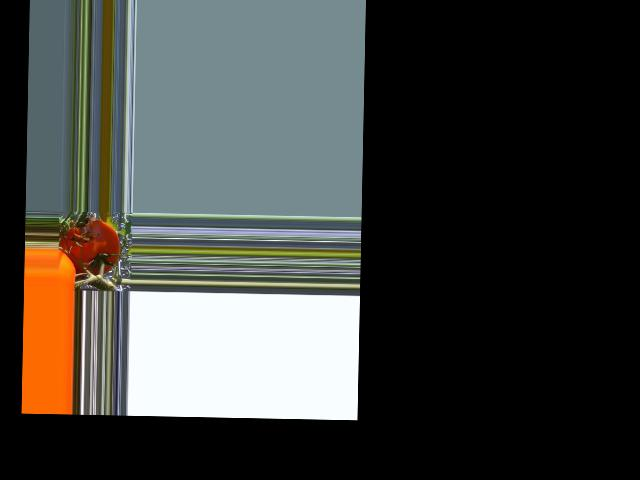tomato: (59, 217, 120, 276)
